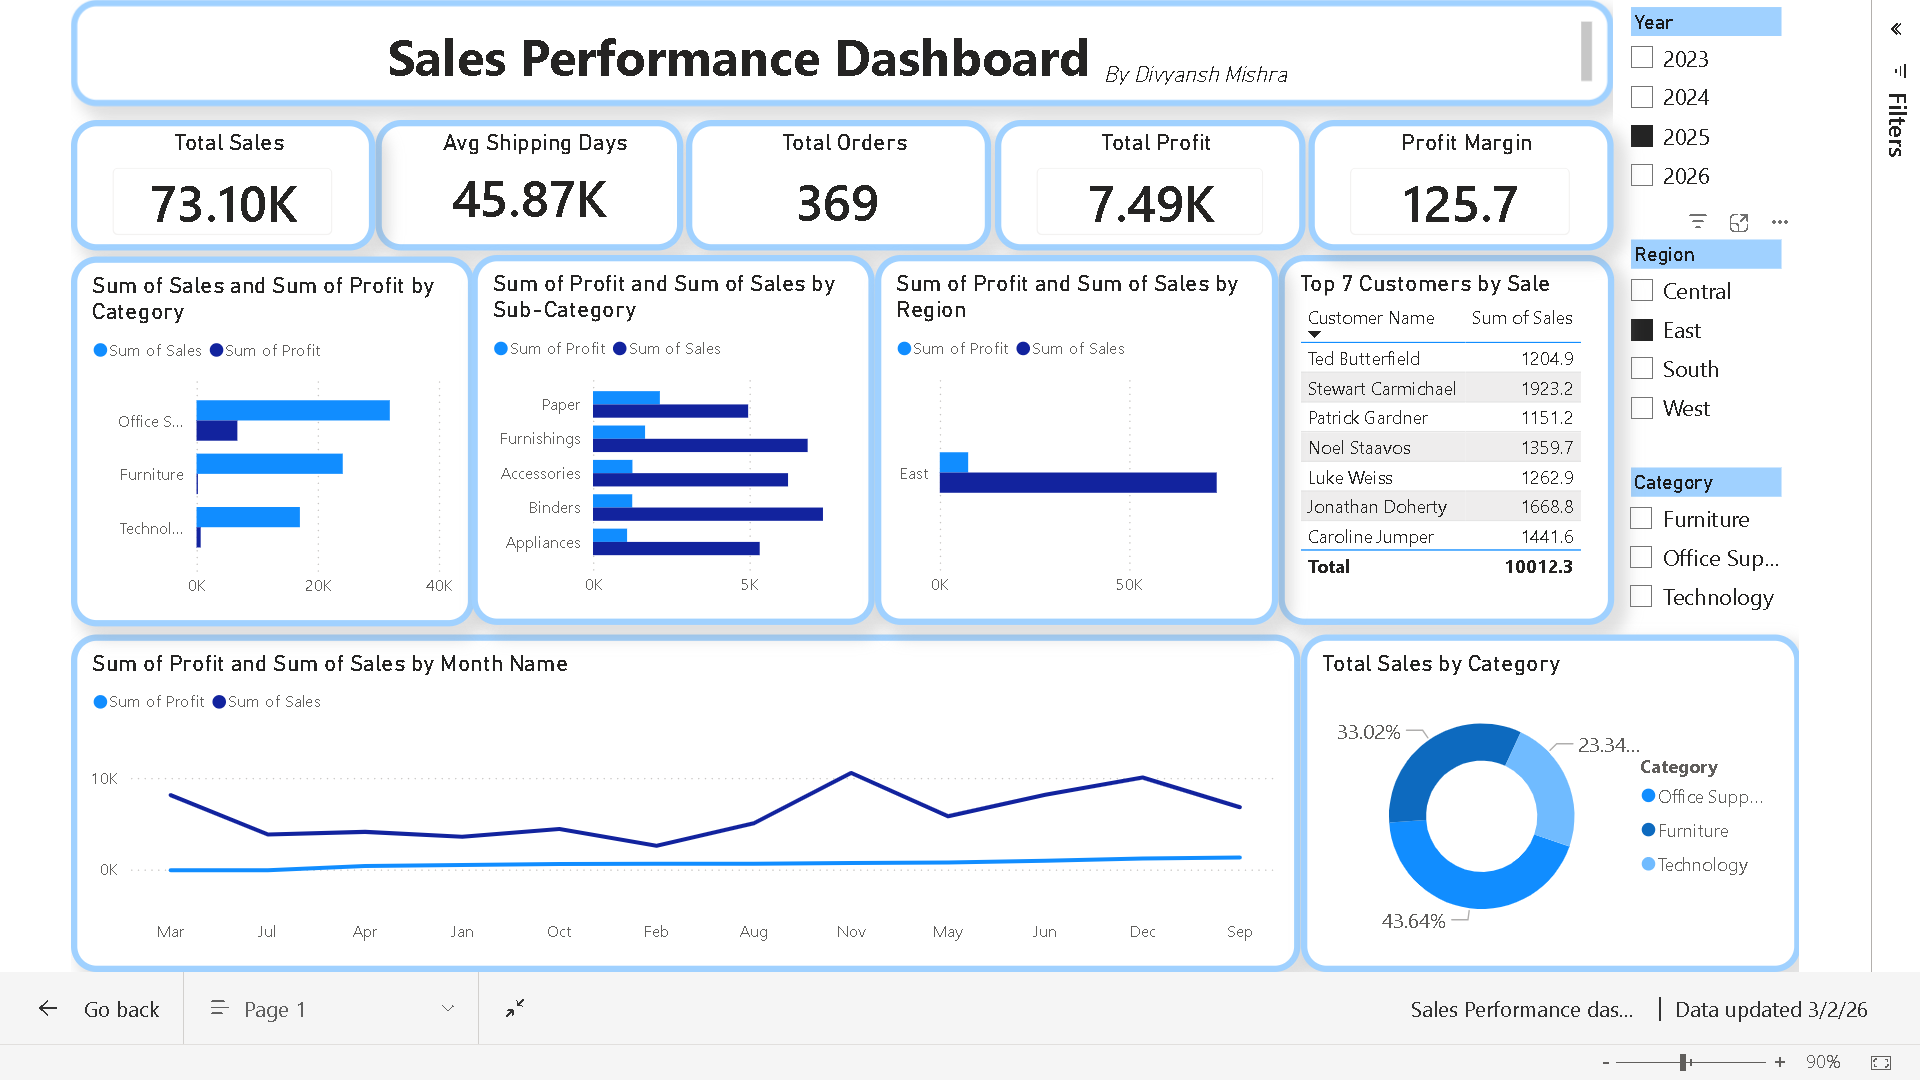

The dashboard page shown, as its layout file describes it:
{"tool":"powerbi","page":{"name":"Page 1","canvas":[1280,720],"ordinal":0},"visuals":[{"type":"textbox","box":[0,0,1142.4,78.8],"z":0},{"type":"cardVisual","title":"Avg Shipping Days","fields":{"Data":["Cleaned_Data.Avg Shipping Days"]},"box":[225.8,89.4,228,97],"z":1000},{"type":"cardVisual","title":"Total Orders","fields":{"Data":["Cleaned_Data.Total Orders"]},"box":[456.1,89.4,225.8,97],"z":2000},{"type":"cardVisual","title":"Total Profit","fields":{"Data":["Cleaned_Data.Total Profit"]},"box":[684.8,89.4,230,97],"z":3000},{"type":"cardVisual","title":"Total Sales","fields":{"Data":["Cleaned_Data.Total Sales"]},"box":[0,89.4,225,97],"z":4000},{"type":"lineChart","fields":{"Category":["Cleaned_Data.Month Name"],"Y":["Sum(Cleaned_Data.Profit)","Sum(Cleaned_Data.Sales)"]},"box":[0,469.7,910.6,250],"z":5000},{"type":"clusteredBarChart","fields":{"Category":["Cleaned_Data.Category"],"Y":["Sum(Cleaned_Data.Sales)","Sum(Cleaned_Data.Profit)"]},"box":[0,190,298.5,274],"z":6000},{"type":"clusteredBarChart","fields":{"Category":["Cleaned_Data.Sub-Category"],"Y":["Sum(Cleaned_Data.Profit)","Sum(Cleaned_Data.Sales)"]},"box":[297,189.4,298.5,274.2],"z":7000},{"type":"slicer","fields":{"Values":["Cleaned_Data.Order Date.Variation.Date Hierarchy.Year"]},"box":[1142.4,0,137.9,150],"z":8000},{"type":"slicer","fields":{"Values":["Cleaned_Data.Region"]},"box":[1142.4,172.7,137.9,154.5],"z":9000},{"type":"slicer","fields":{"Values":["Cleaned_Data.Category"]},"box":[1142.4,340.9,137.9,119.7],"z":10000},{"type":"tableEx","title":" Top 7 Customers by Sale","fields":{"Values":["Cleaned_Data.Customer Name","Sum(Cleaned_Data.Sales)"]},"box":[893.9,189.4,248.5,274.2],"z":11000},{"type":"clusteredBarChart","fields":{"Category":["Cleaned_Data.Region"],"Y":["Sum(Cleaned_Data.Profit)","Sum(Cleaned_Data.Sales)"]},"box":[595.5,189.4,298.5,274.2],"z":12000},{"type":"cardVisual","title":"Profit Margin","fields":{"Data":["Sum(Cleaned_Data.Profit Margin)"]},"box":[916.7,89.4,225.8,97],"z":13000},{"type":"donutChart","fields":{"Category":["Cleaned_Data.Category"],"Y":["Cleaned_Data.Total Sales"]},"box":[910.6,469.7,369.7,250],"z":14000}]}

Visuals, with their boxes on the page's 1280x720 design canvas (x1, y1, x2, y2). These are canvas units, not pixel positions in the 1920x1080 screenshot, which may show the page scaled, cropped or inside an application window:
textbox: 0, 0, 1142, 79
"Avg Shipping Days" cardVisual: 226, 89, 454, 186
"Total Orders" cardVisual: 456, 89, 682, 186
"Total Profit" cardVisual: 685, 89, 915, 186
"Total Sales" cardVisual: 0, 89, 225, 186
lineChart - Cleaned_Data.Month Name x Sum(Cleaned_Data.Profit): 0, 470, 911, 720
clusteredBarChart - Cleaned_Data.Category x Sum(Cleaned_Data.Sales): 0, 190, 298, 464
clusteredBarChart - Cleaned_Data.Sub-Category x Sum(Cleaned_Data.Profit): 297, 189, 596, 464
slicer - Cleaned_Data.Order Date.Variation.Date Hierarchy.Year: 1142, 0, 1280, 150
slicer - Cleaned_Data.Region: 1142, 173, 1280, 327
slicer - Cleaned_Data.Category: 1142, 341, 1280, 461
" Top 7 Customers by Sale" tableEx: 894, 189, 1142, 464
clusteredBarChart - Cleaned_Data.Region x Sum(Cleaned_Data.Profit): 596, 189, 894, 464
"Profit Margin" cardVisual: 917, 89, 1142, 186
donutChart - Cleaned_Data.Category x Cleaned_Data.Total Sales: 911, 470, 1280, 720
